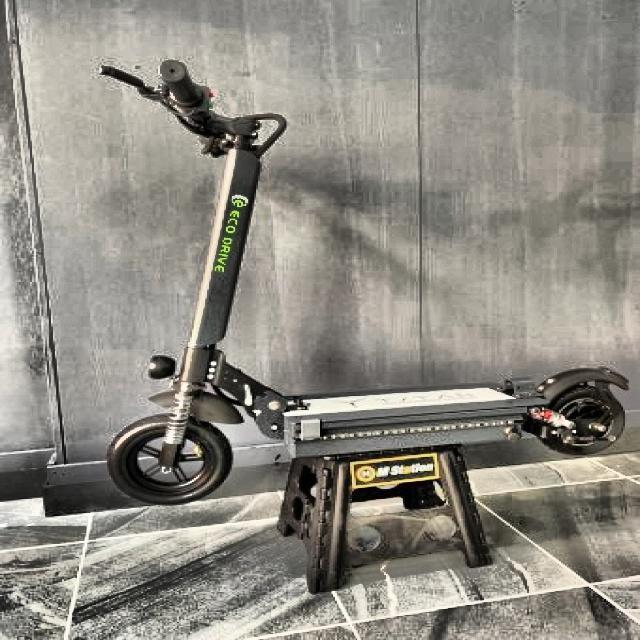bike: (99, 61, 635, 575)
car: (105, 60, 633, 593)
